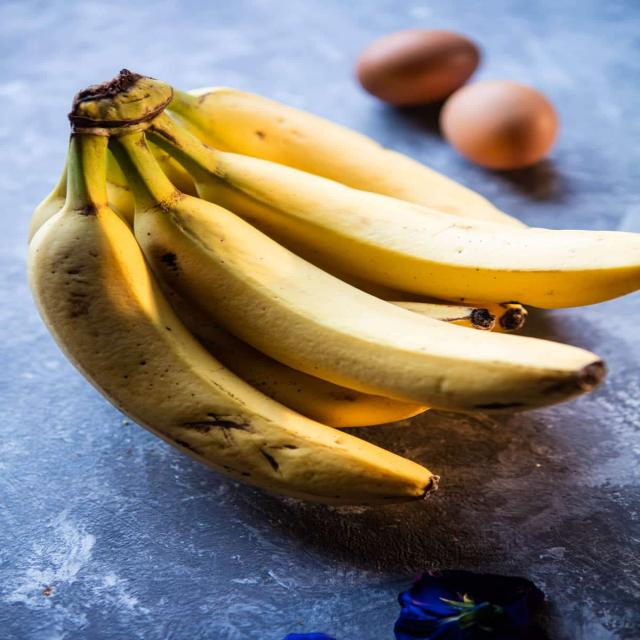Banana: (28, 137, 434, 505), (123, 137, 597, 412), (153, 124, 636, 305)
